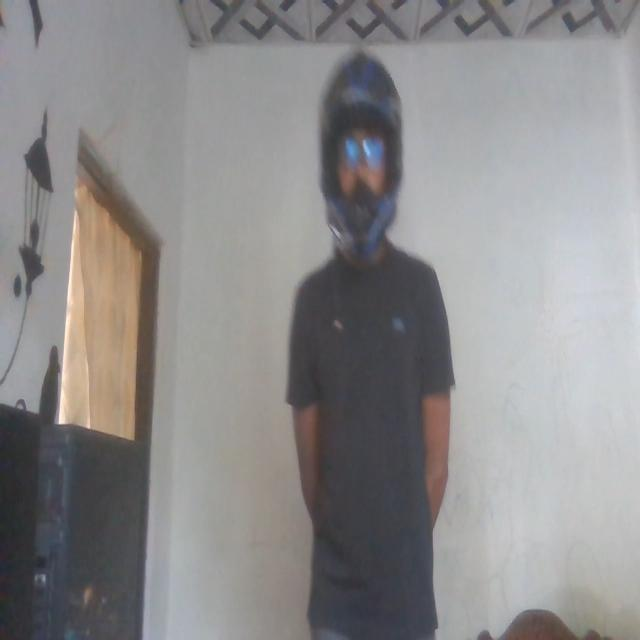Helmet_Wearer: (318, 46, 412, 268)
Person: (284, 45, 454, 640)
